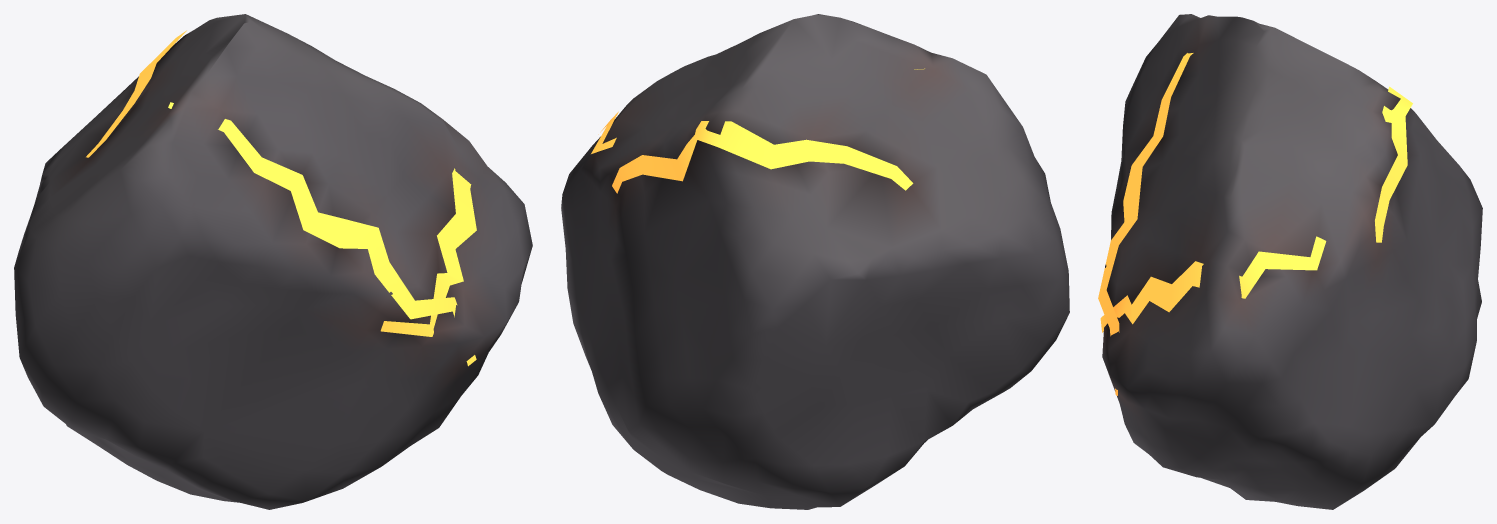
The model's file is volcanic-rock.glb.
3 views of the same model, side by side, from view 1: azimuth 30°, elevation 25°; view 2: azimuth 150°, elevation 25°; view 3: azimuth 270°, elevation 25° (orthographic). The views are drawn at different scales.
Visible parts, largest first — view 1: Basalt bomb, Molten fissures; view 2: Basalt bomb, Molten fissures; view 3: Basalt bomb, Molten fissures.
Part boxes in pixels (bbox=[...]): Basalt bomb: bbox=[14, 14, 532, 509]; Molten fissures: bbox=[86, 30, 476, 366]; Basalt bomb: bbox=[561, 14, 1069, 509]; Molten fissures: bbox=[591, 68, 924, 193]; Basalt bomb: bbox=[1102, 14, 1482, 509]; Molten fissures: bbox=[1098, 53, 1412, 395].
Bounding box in the file's own units: 2.43 × 2.25 × 1.71.
